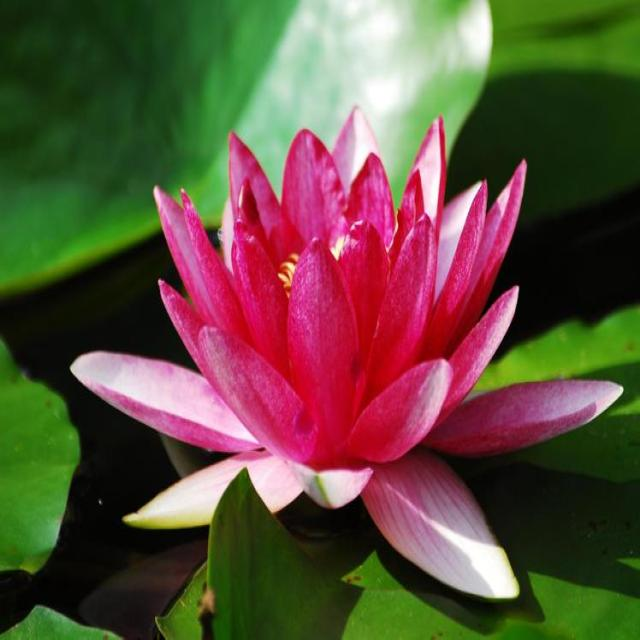rose: (52, 0, 616, 640)
